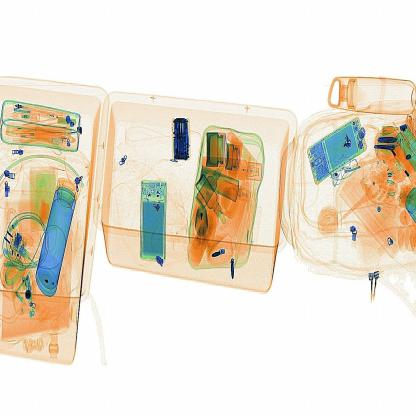scissors: (165, 110, 197, 170)
